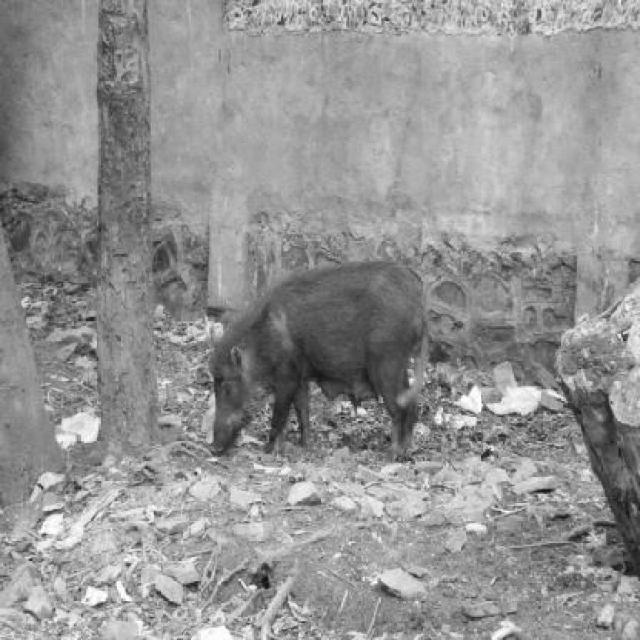Boar: (208, 253, 434, 464)
